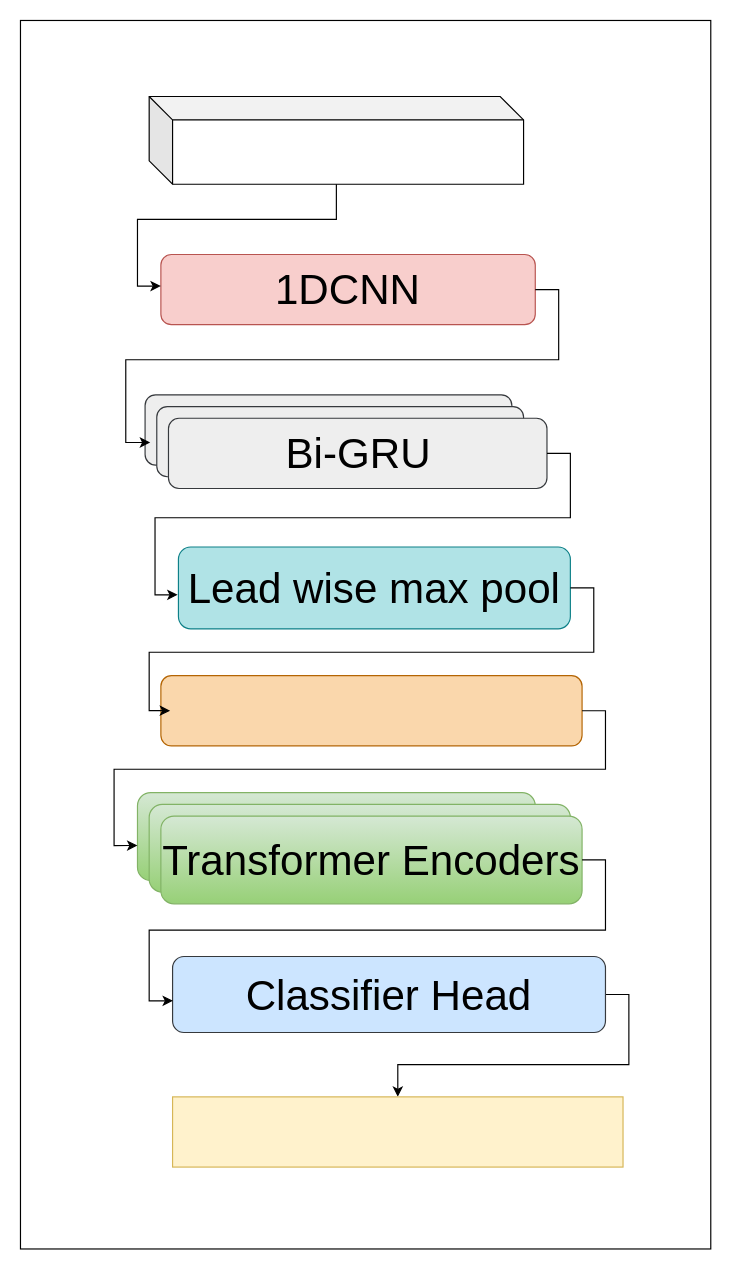
Image size: 731x1269. Some labels were removed from this diagram. The centre of each missing label's shape, as x and y in pixels:
2DCNN: [371,710]
Data: [336,139]
Prediction: [397,1131]
